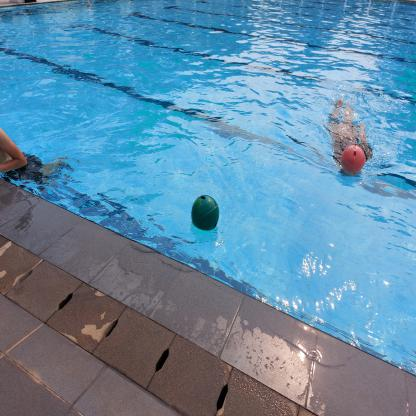green_buoy: (188, 193, 223, 234)
red_buoy: (341, 143, 366, 175)
